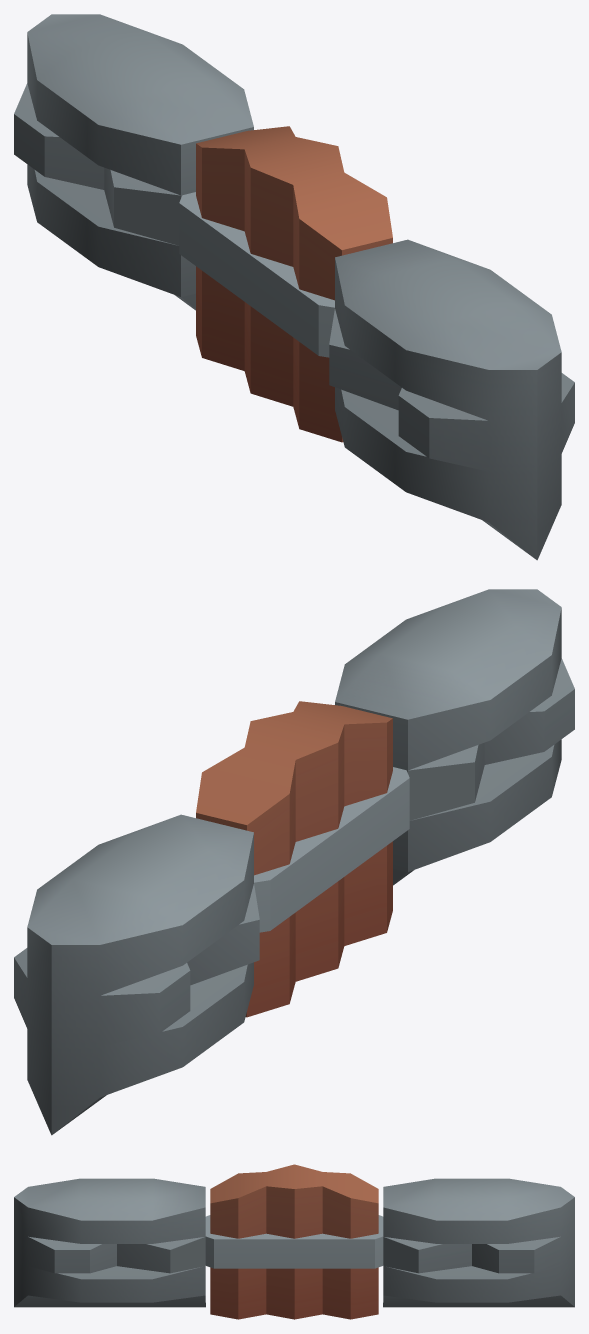
Rendered from fence_stone_straight_gate.gltf.
3 views of the same model, one above another, from view 1: azimuth 30°, elevation 25°; view 2: azimuth 150°, elevation 25°; view 3: azimuth 270°, elevation 25° (orthographic). The views are drawn at different scales.
Parts seen in each view (by area): view 1: fence_stone_straight_gate, fence_stone_straight_door; view 2: fence_stone_straight_gate, fence_stone_straight_door; view 3: fence_stone_straight_gate, fence_stone_straight_door.
Boxes of the visible parts, x1,y1,x2,y2 form: fence_stone_straight_gate: (14,14,574,560); fence_stone_straight_door: (179,126,392,442); fence_stone_straight_gate: (14,589,574,1135); fence_stone_straight_door: (196,701,409,1017); fence_stone_straight_gate: (14,1178,574,1307); fence_stone_straight_door: (205,1164,383,1319).
Bounding box in the file's own units: 0.2 × 0.2963 × 1.15.
Materials: 1 (1 with a texture image).
